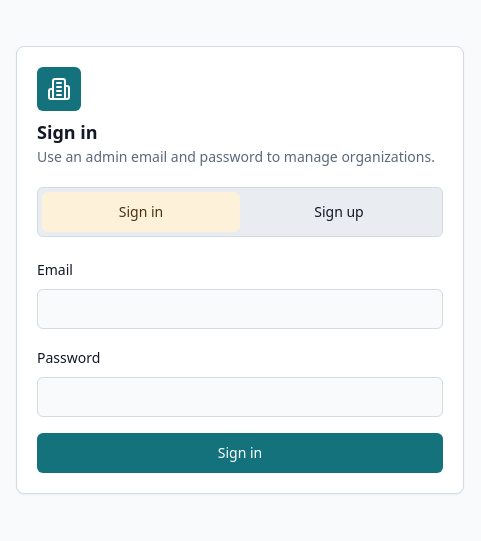
Test: AuthPage › displays authentication failures
Type "admin@example.com" into the field labelled "Email" at point(240, 309), box [37,289,443,329]
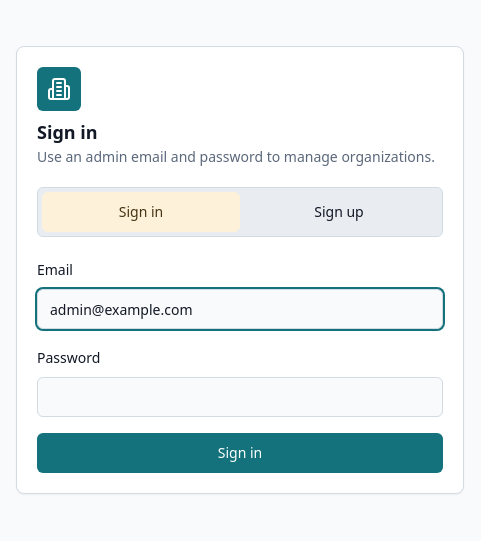
Type "password123" into the password field labelled "Password" at point(240, 397), box [37,377,443,417]
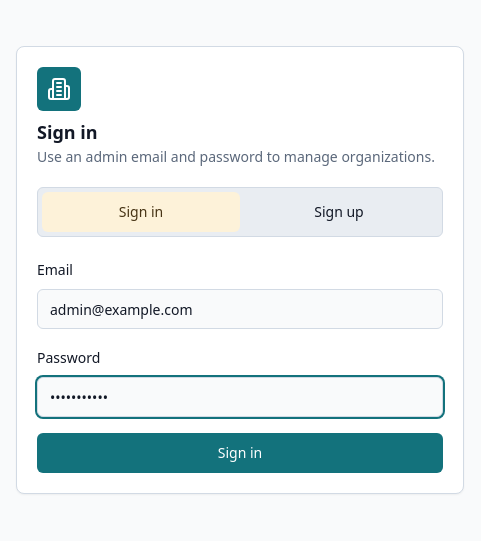
Click the button "Sign in" at point(240, 453), box [37,433,443,473]
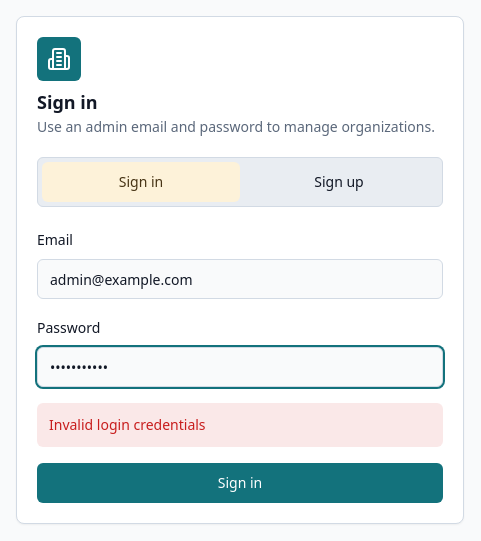
Expected: the text "Invalid login credentials" is shown, [37,403,443,447]
